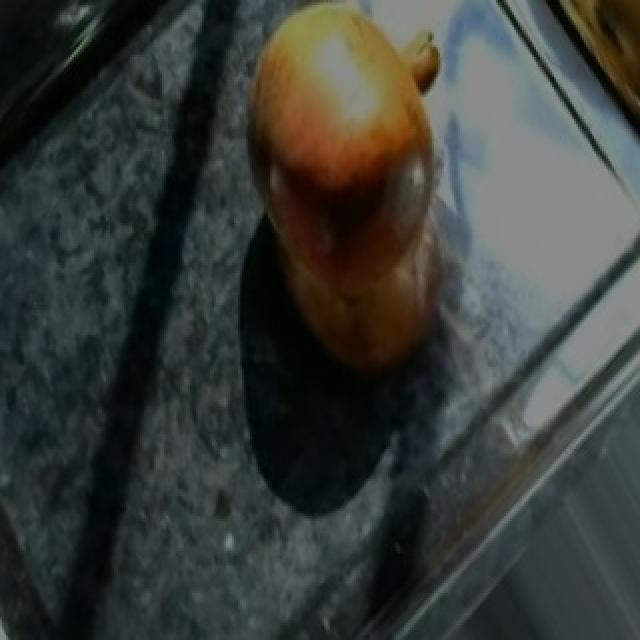fruit: (206, 0, 468, 290), (536, 0, 640, 131)
